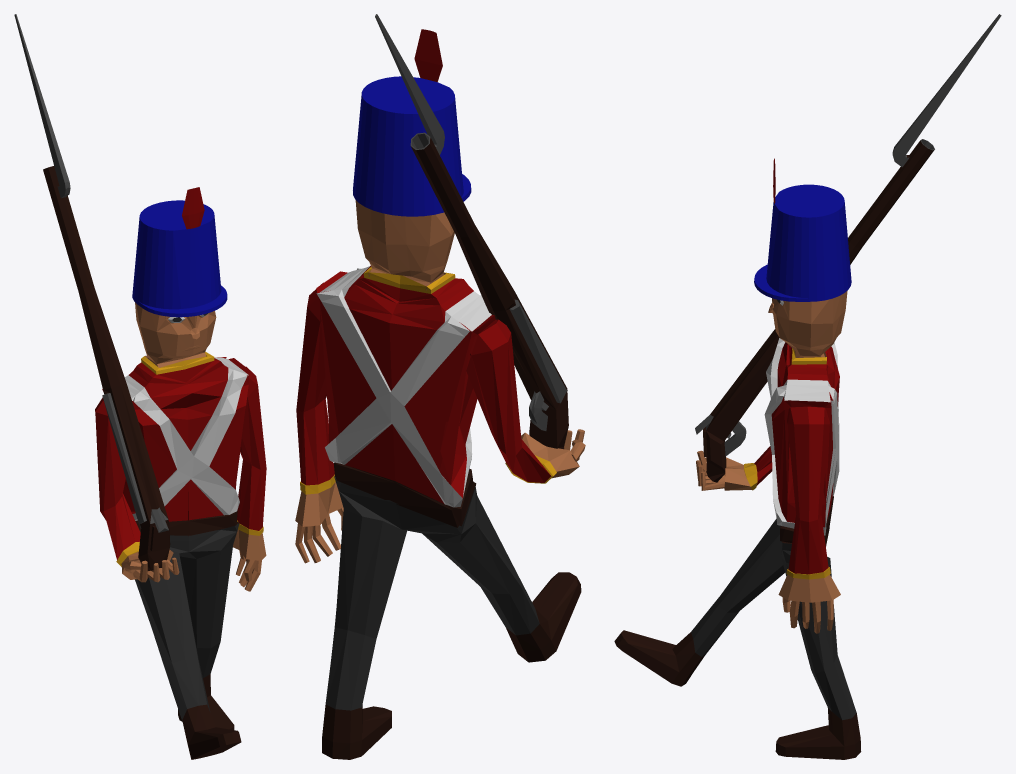
Rendered from Infantry_000011.obj.
3 renders of one model, left to right at view 1: azimuth 30°, elevation 25°; view 2: azimuth 150°, elevation 25°; view 3: azimuth 270°, elevation 25°, orthographic. The views are drawn at different scales.
Parts seen in each view (by area): view 1: {Man}_Circle, {Mesket}_Cube.001; view 2: {Man}_Circle, {Mesket}_Cube.001; view 3: {Man}_Circle, {Mesket}_Cube.001.
Boxes of the visible parts, x1=… form: {Man}_Circle: x1=95, y1=187, x2=266, y2=759; {Mesket}_Cube.001: x1=14, y1=14, x2=170, y2=570; {Man}_Circle: x1=295, y1=29, x2=585, y2=759; {Mesket}_Cube.001: x1=375, y1=14, x2=568, y2=449; {Man}_Circle: x1=614, y1=158, x2=861, y2=759; {Mesket}_Cube.001: x1=695, y1=14, x2=1001, y2=482.
Size of the model in its own units: 5.63 by 19.61 by 10.01.
